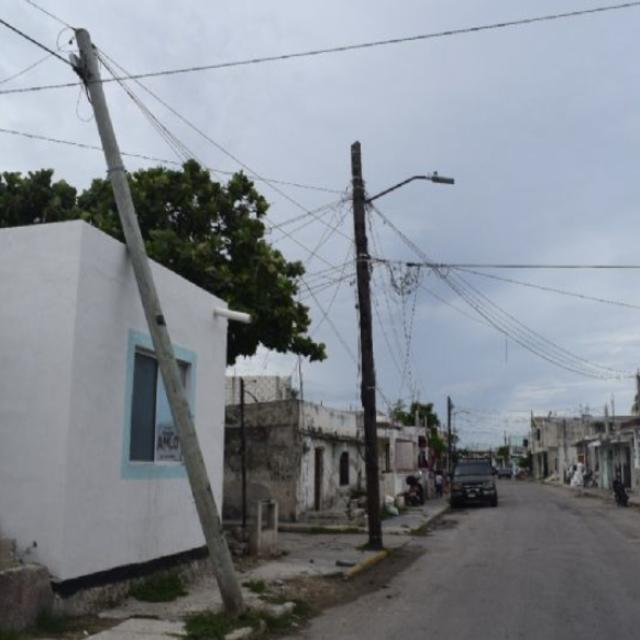Inclined Pole: (64, 21, 251, 611)
